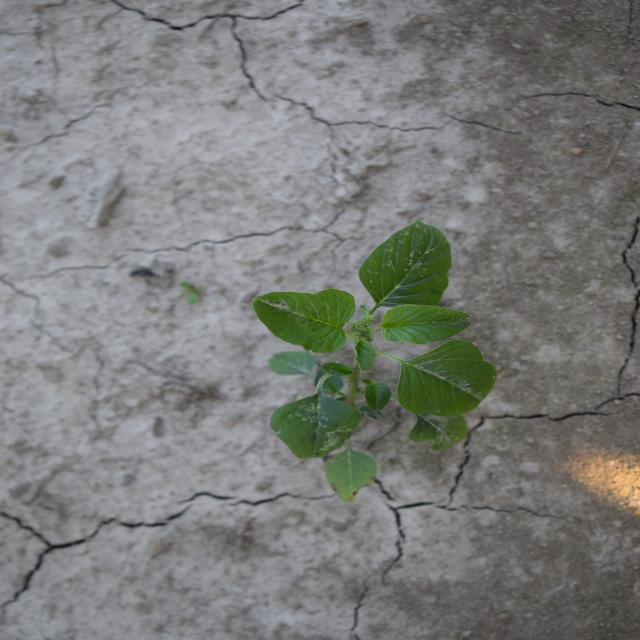PalmerAmaranth: (250, 220, 500, 502)
